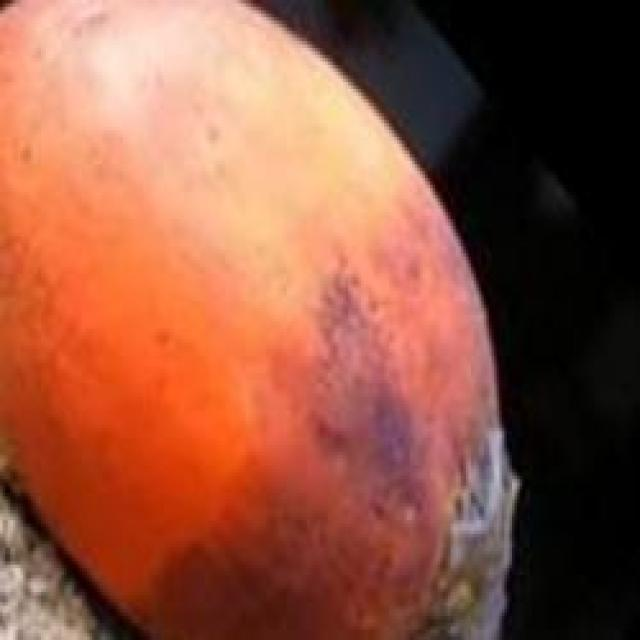good: (0, 0, 520, 637)
